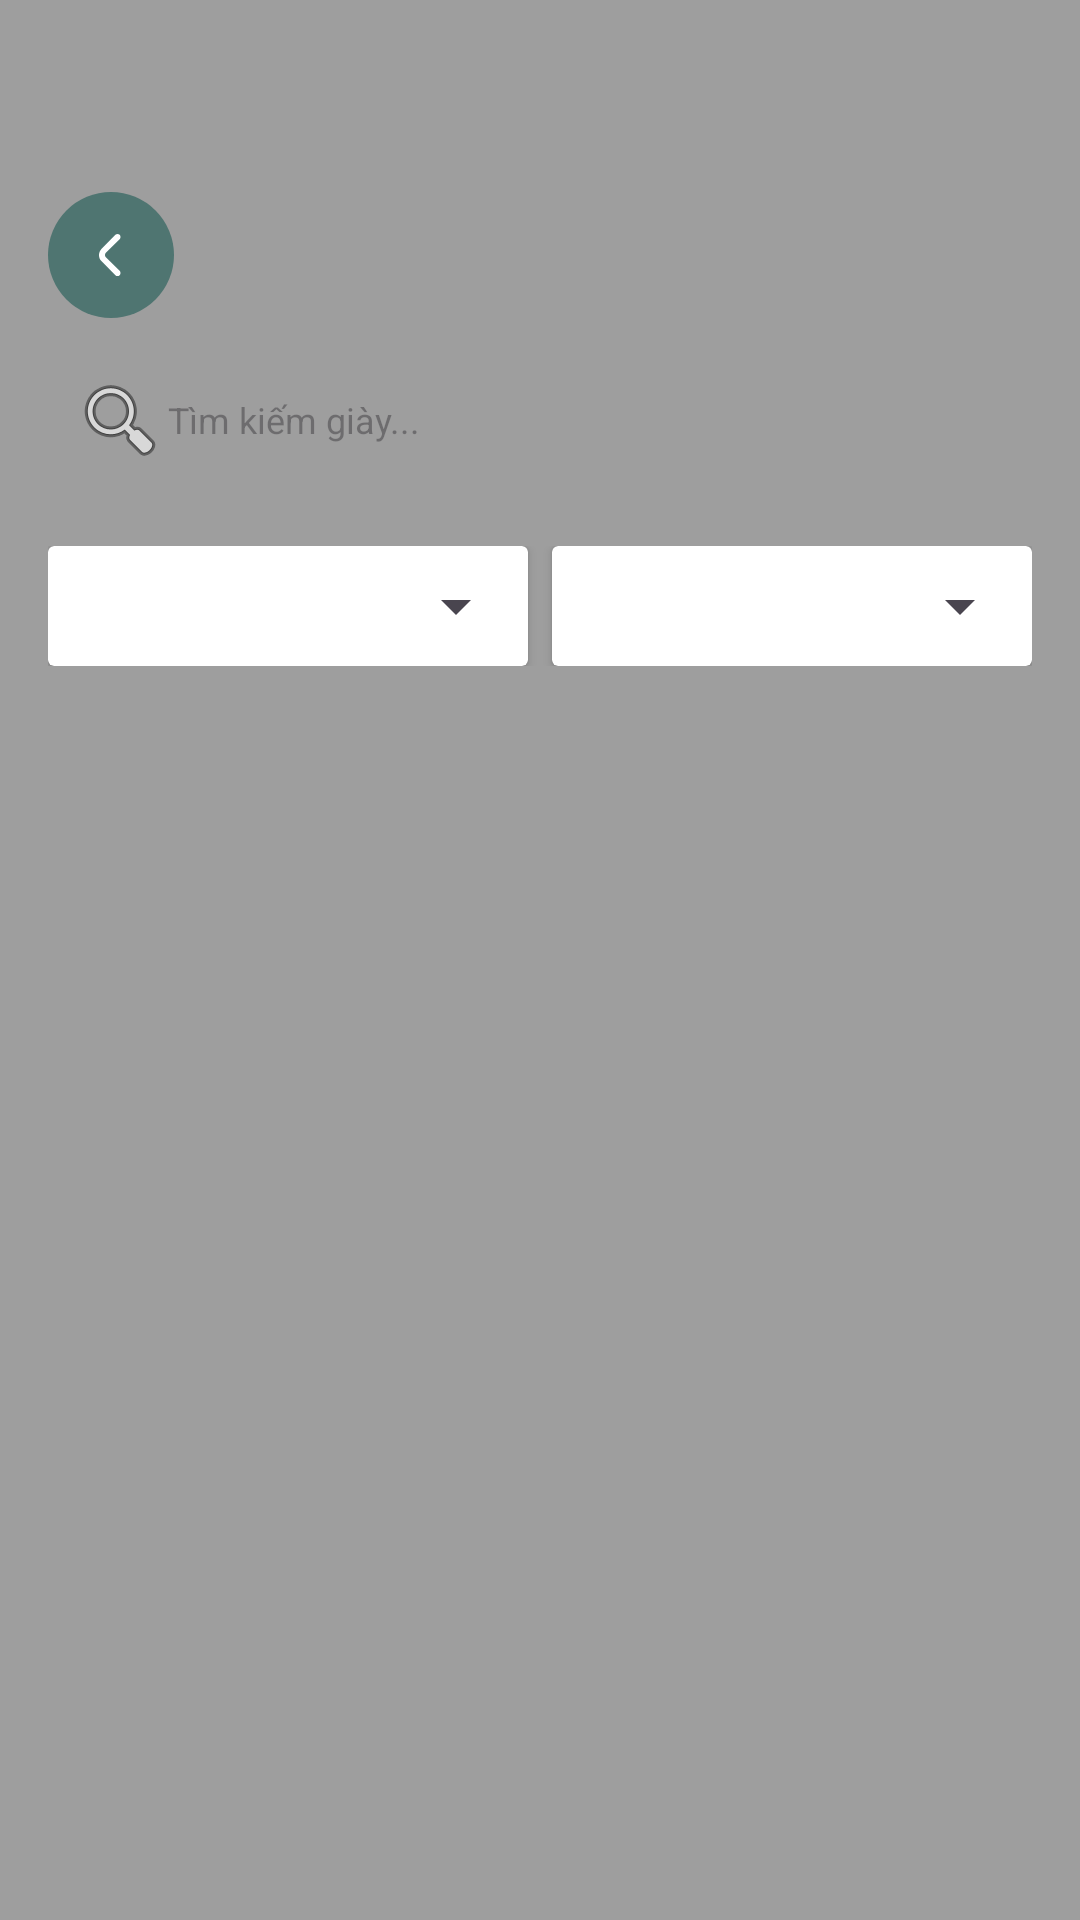

Where to tap for icons on this 1080×1920 app screen, as (x=x, y=y):
back: (x=111, y=255)
